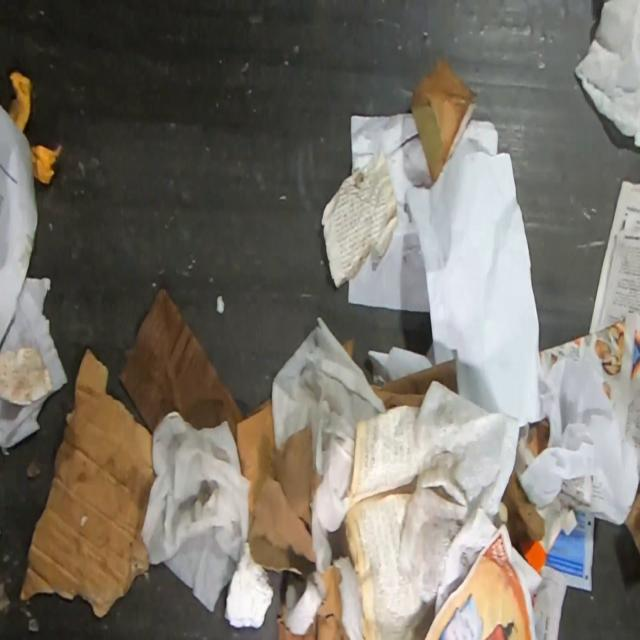cardboard: (18, 345, 156, 617), (234, 396, 368, 640), (118, 287, 247, 443), (408, 53, 479, 185), (370, 359, 459, 411), (0, 345, 53, 406), (342, 335, 355, 360)
soft_plastic: (573, 0, 640, 148)
